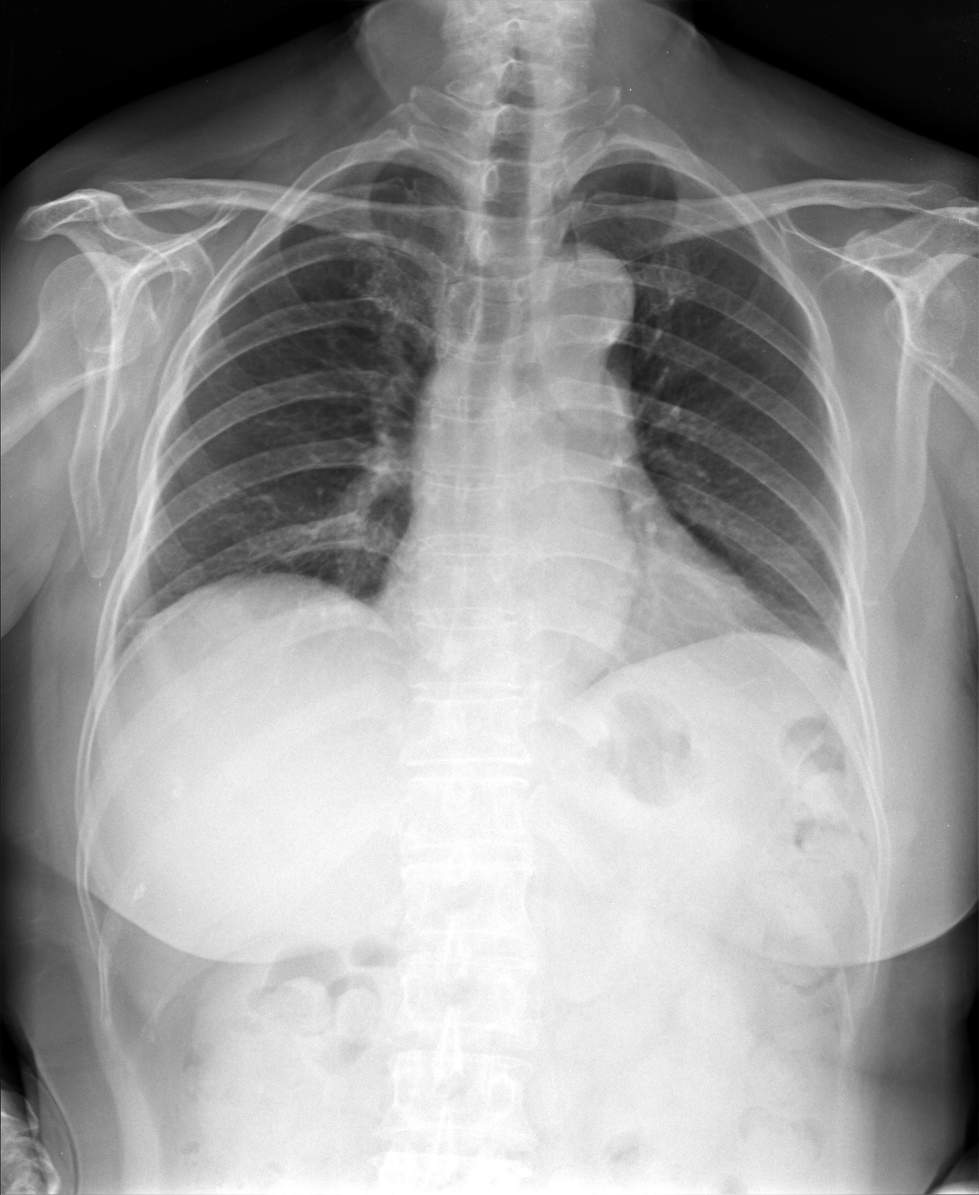Aortic enlargement: (532, 246, 635, 348)
